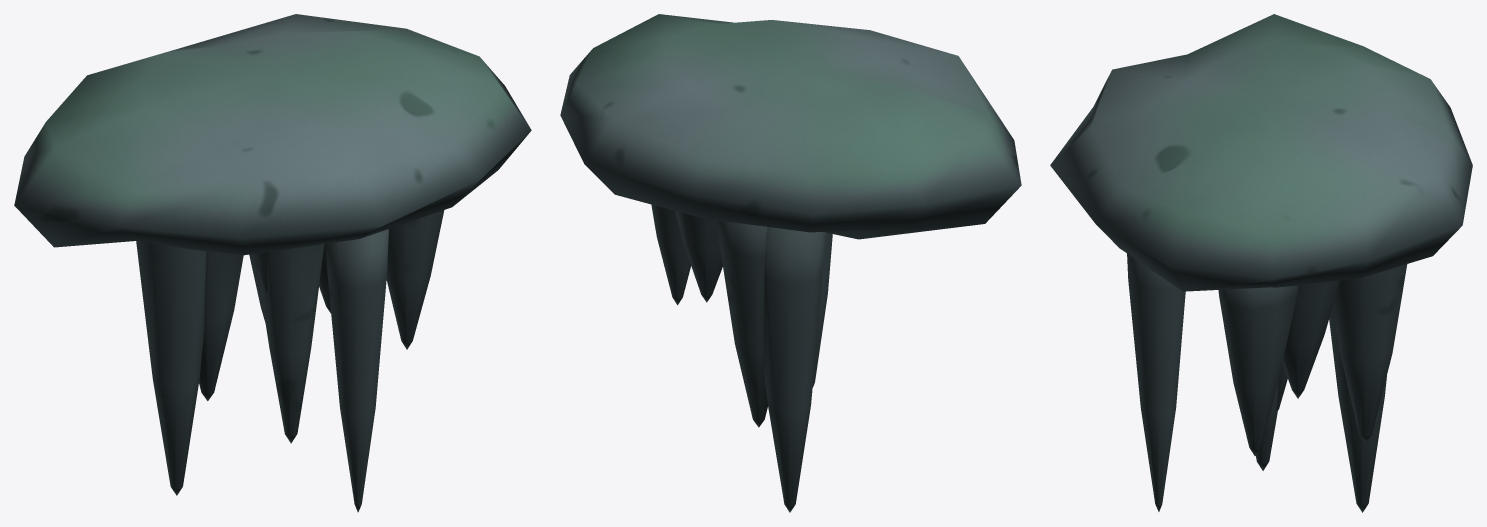
Rendered from Estalactitas.fbx.
3 views of the same model, side by side, from view 1: azimuth 30°, elevation 25°; view 2: azimuth 150°, elevation 25°; view 3: azimuth 270°, elevation 25° (orthographic). The views are drawn at different scales.
Parts seen in each view (by area): view 1: Malla; view 2: Malla; view 3: Malla.
Boxes of the visible parts, box(x1,y1,x2,y2) form: Malla: box(14, 14, 531, 512); Malla: box(560, 14, 1021, 512); Malla: box(1050, 14, 1472, 512).
Bounding box in the file's own units: 1.63 × 1.41 × 1.22.
1 material, 1 textured.
